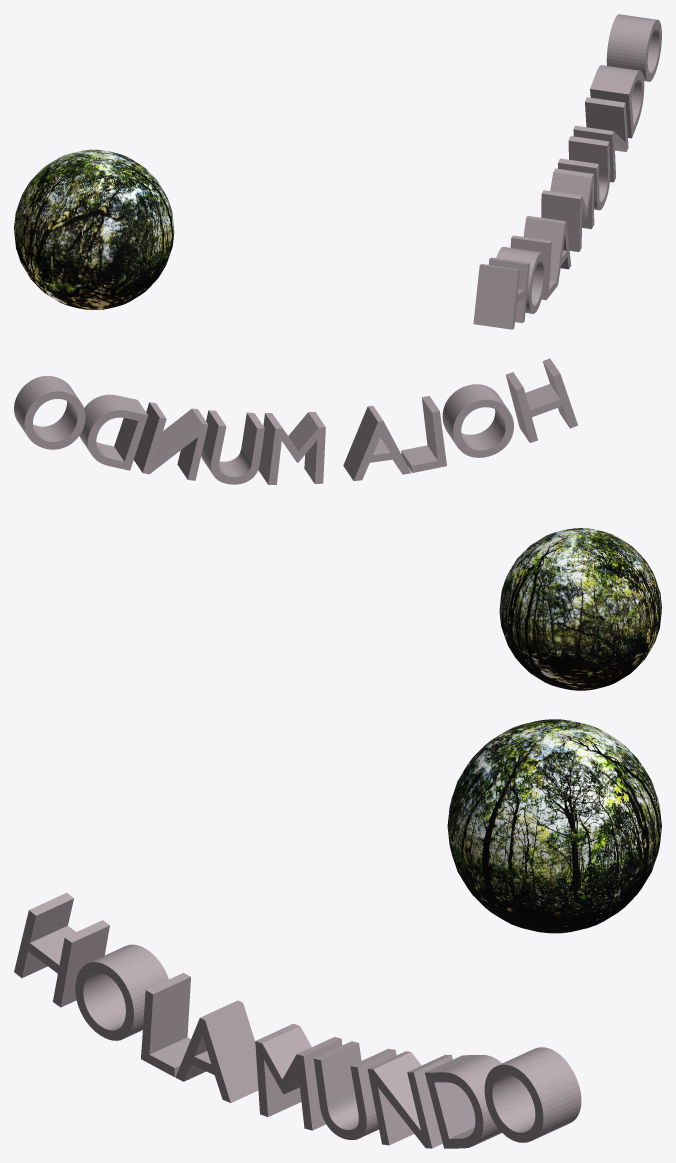
The model's file is jejeje.dae.
The picture shows the model from 3 angles, top to bottom: view 1: azimuth 30°, elevation 25°; view 2: azimuth 150°, elevation 25°; view 3: azimuth 270°, elevation 25°; orthographic projection. The views are drawn at different scales.
Parts seen in each view (by area): view 1: Sphere, Text; view 2: Text, Sphere; view 3: Text, Sphere.
Boxes of the visible parts, x1,y1,x2,y2 form: Sphere: [14, 149, 174, 310]; Text: [473, 14, 661, 329]; Text: [14, 358, 577, 484]; Sphere: [499, 528, 661, 690]; Text: [14, 893, 581, 1148]; Sphere: [447, 719, 661, 933].
Bounding box in the file's own units: 9.1 × 6.04 × 2.2.
2 materials, 1 textured.
